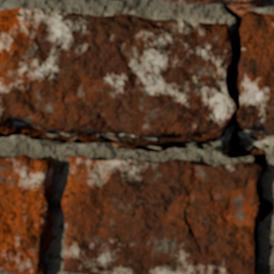brick: (62, 156, 260, 273), (0, 155, 53, 273), (165, 0, 261, 7)
broken_brick: (0, 7, 234, 137), (238, 10, 273, 136)
crack: (0, 2, 273, 272)
